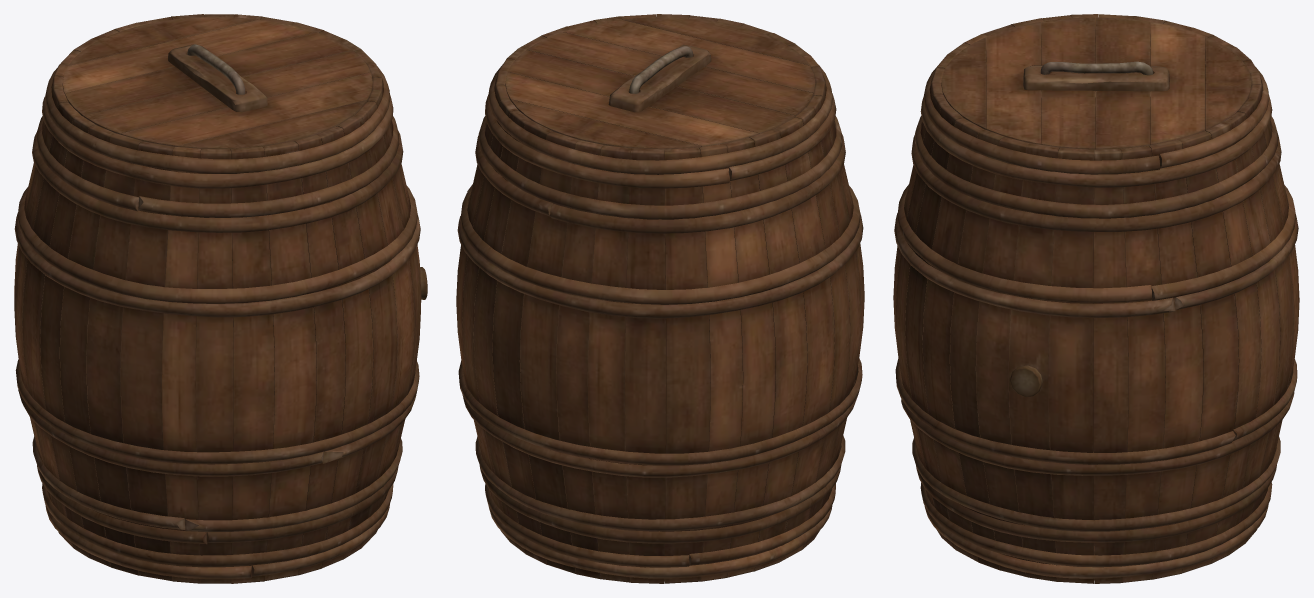
Rendered from fass.glb.
3 renders of one model, left to right at view 1: azimuth 30°, elevation 25°; view 2: azimuth 150°, elevation 25°; view 3: azimuth 270°, elevation 25°, orthographic.
Parts seen in each view (by area): view 1: wooden_barrels_01_barrel01; view 2: wooden_barrels_01_barrel01; view 3: wooden_barrels_01_barrel01.
Part boxes in pixels (x1=…): wooden_barrels_01_barrel01: x1=14, y1=14, x2=427, y2=583; wooden_barrels_01_barrel01: x1=456, y1=14, x2=864, y2=583; wooden_barrels_01_barrel01: x1=893, y1=14, x2=1299, y2=583.
Size of the model in its own units: 0.8104 by 1 by 0.8104.
Materials: 1 (1 with a texture image).
